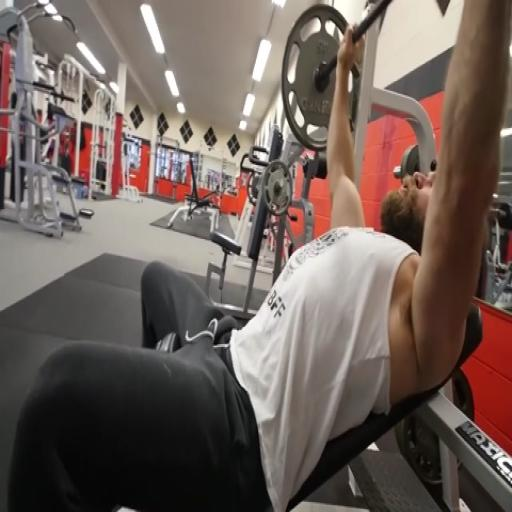exercise: (5, 0, 511, 511)
